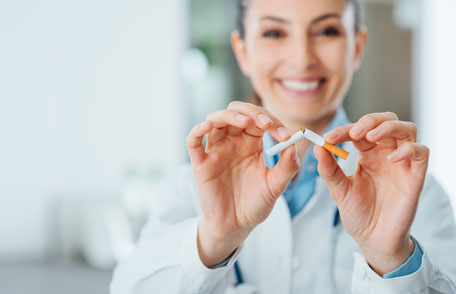cigarette: (299, 121, 351, 165), (261, 120, 306, 161)
